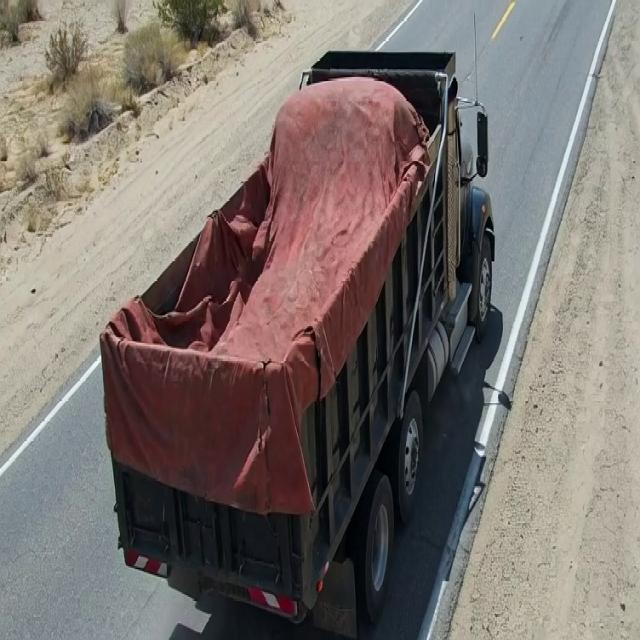Box: (101, 52, 454, 400)
Truck: (83, 44, 505, 605)
